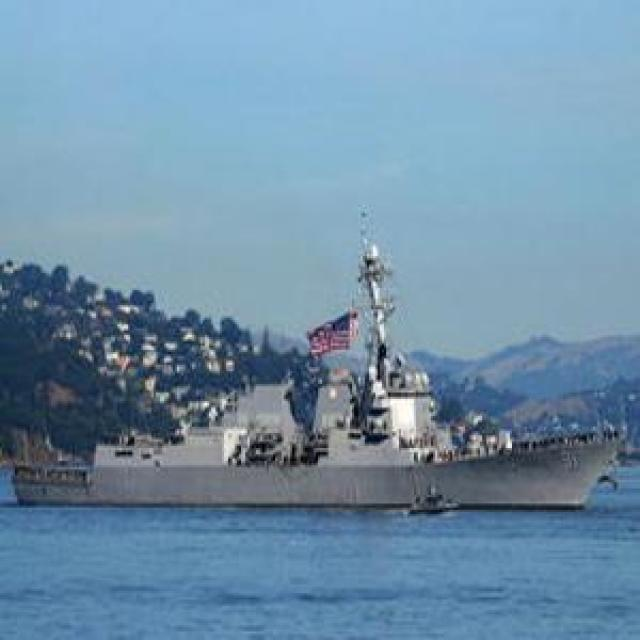navalvessels: (12, 242, 640, 541)
